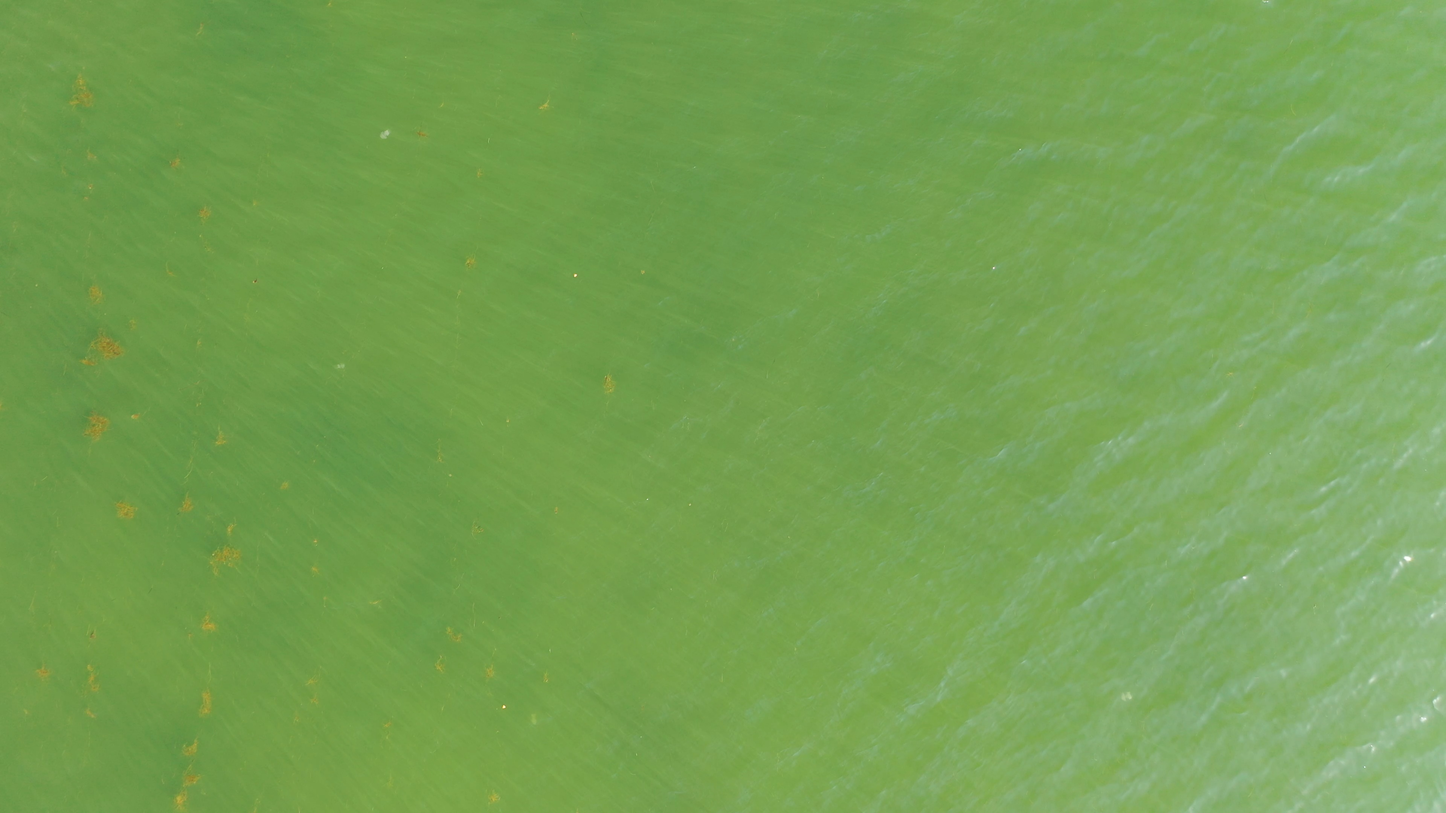meduse: (381, 128, 393, 140), (1122, 691, 1134, 700), (337, 363, 346, 370), (531, 716, 537, 723)
